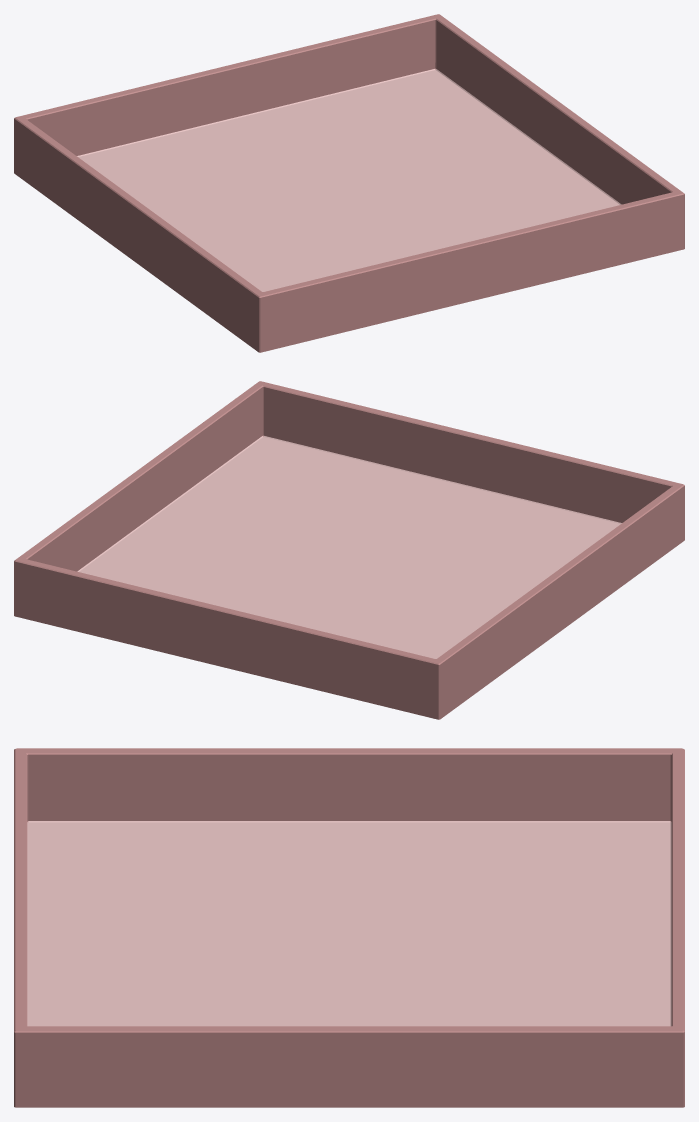
The model's file is square 1.fbx.
3 views of the same model, one above another, from view 1: azimuth 30°, elevation 25°; view 2: azimuth 150°, elevation 25°; view 3: azimuth 270°, elevation 25° (orthographic). The views are drawn at different scales.
Visible parts, largest first — view 1: Table_Square; view 2: Table_Square; view 3: Table_Square.
Part boxes in pixels (left/top/right/bottom): Table_Square: left=14, top=14, right=684, bottom=352; Table_Square: left=14, top=381, right=684, bottom=719; Table_Square: left=14, top=748, right=684, bottom=1107.
Size of the model in its own units: 8 by 1 by 8.
